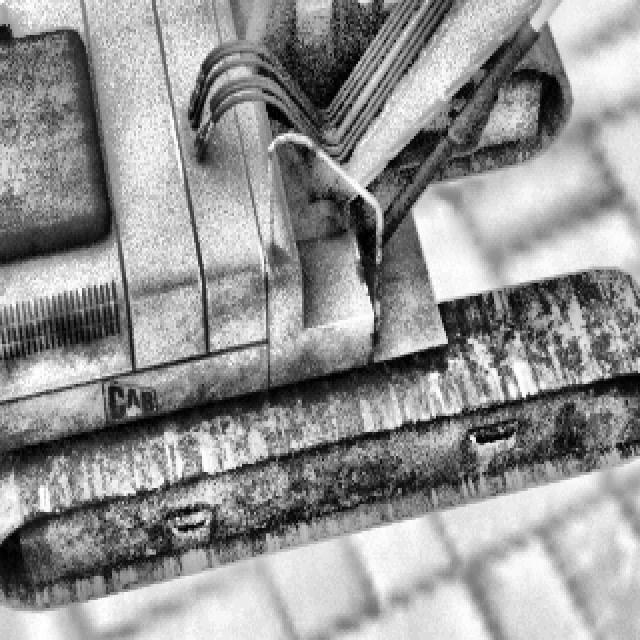excavator: (0, 0, 640, 611)
